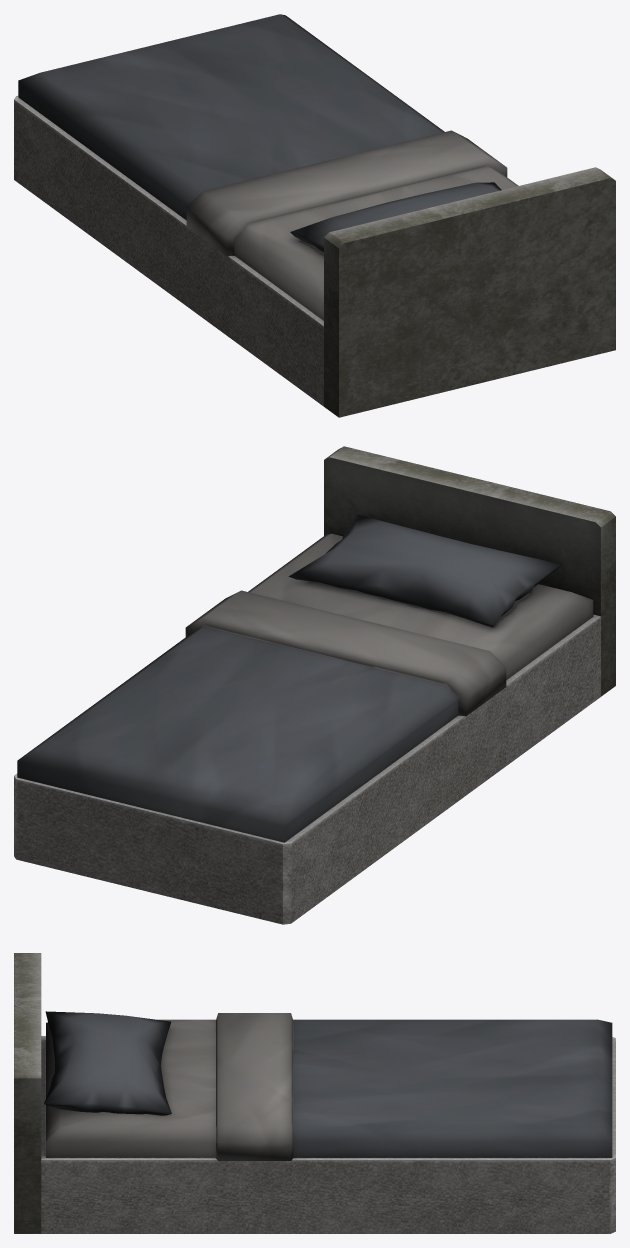
Rendered from FUR0210049.fbx.
The picture shows the model from 3 angles, top to bottom: view 1: azimuth 30°, elevation 25°; view 2: azimuth 150°, elevation 25°; view 3: azimuth 270°, elevation 25°; orthographic projection. The views are drawn at different scales.
Parts seen in each view (by area): view 1: smFUR0210049; view 2: smFUR0210049; view 3: smFUR0210049.
Part boxes in pixels (x1,y1,x2,y2): smFUR0210049: [14, 14, 615, 417]; smFUR0210049: [14, 446, 615, 924]; smFUR0210049: [14, 953, 615, 1233].
Bounding box in the file's own units: 145 × 85.47 × 293.
1 material, 1 textured.
